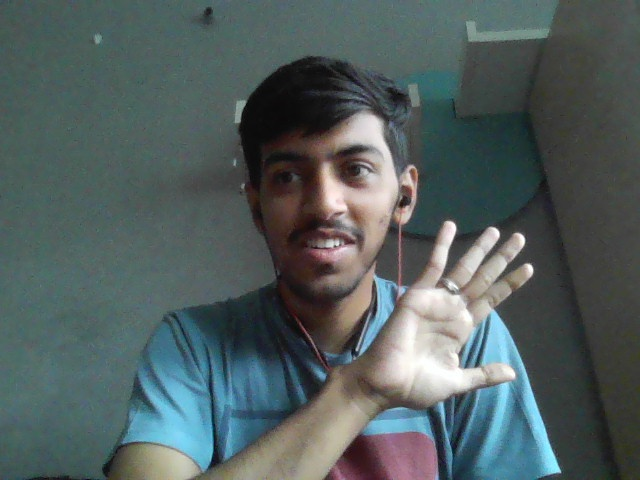Hello: (367, 213, 537, 404)
